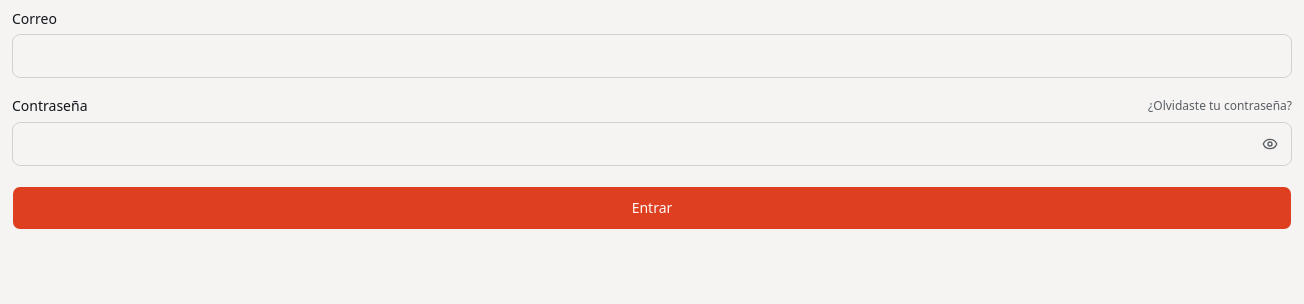
Test case: LoginForm › shows the error when sign-in fails
Type "ana@ejemplo.com" into the field labelled "Correo". click: (652,56)
box: [12,34,1292,78]
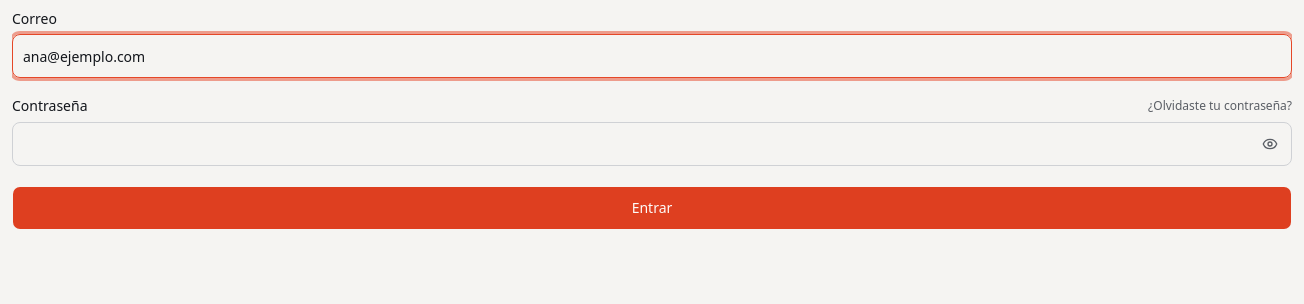
Type "mala" into the password field labelled "Contraseña". click: (652,144)
box: [12,122,1292,166]
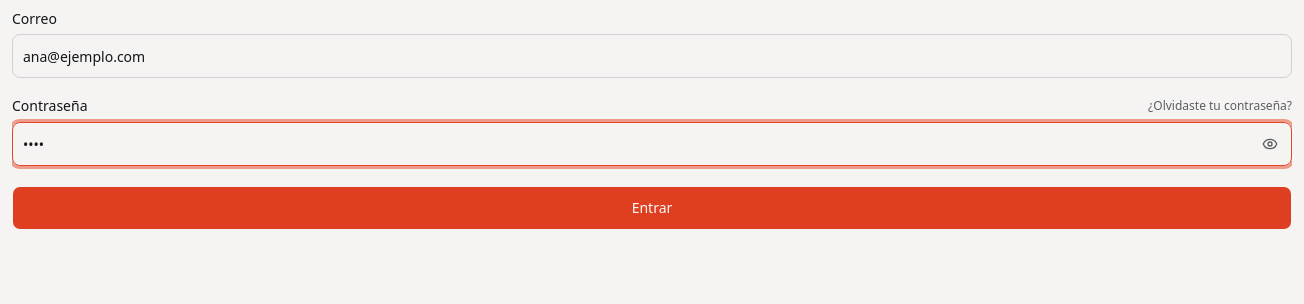
Click the button "Entrar". click: (652,208)
box: [12,186,1292,230]
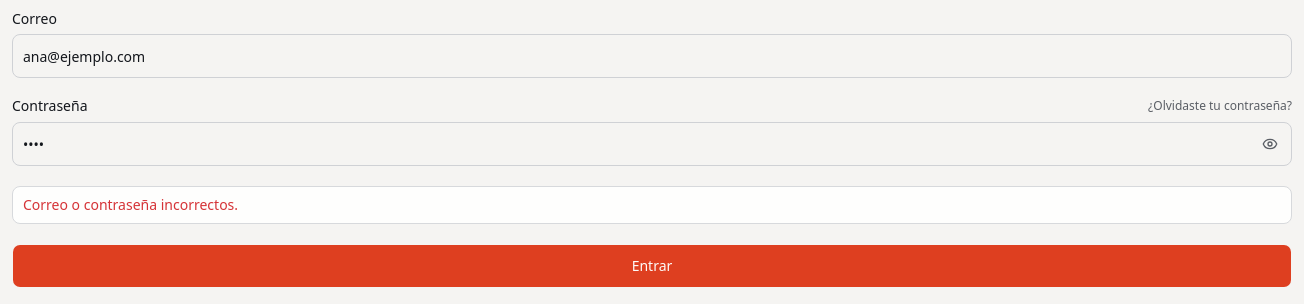
Expected: the message reads "Correo o contraseña incorrectos.", [23,195,238,214]
